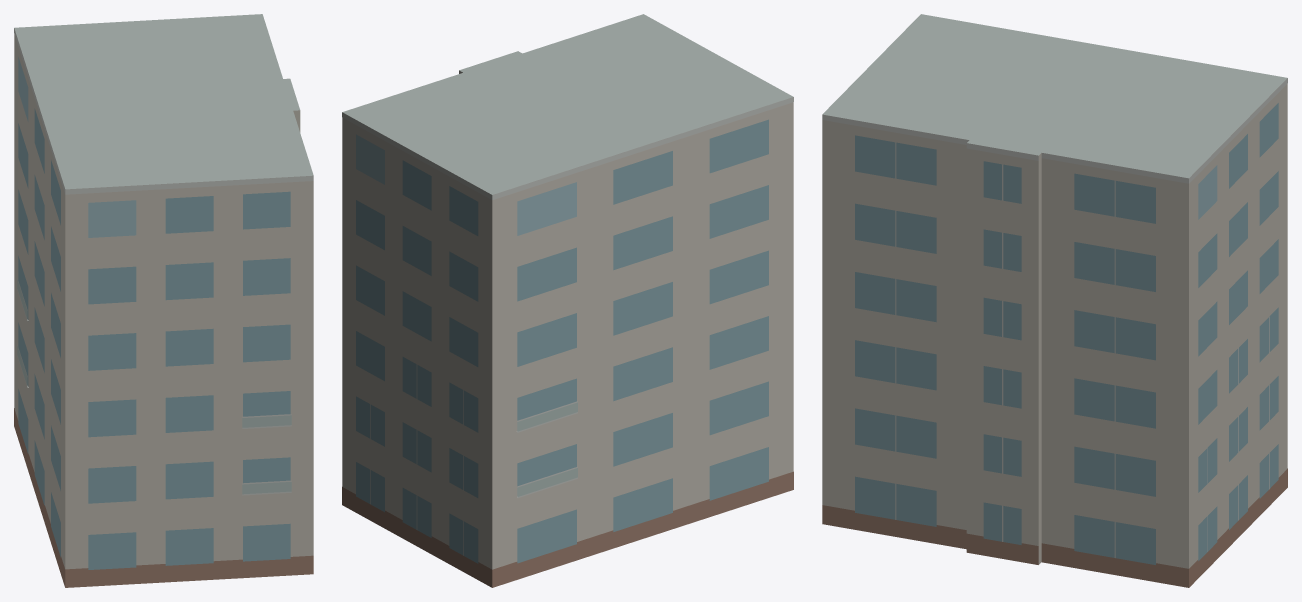
The model's file is survey-upis-33040973.glb.
3 views of the same model, side by side, from view 1: azimuth 30°, elevation 25°; view 2: azimuth 150°, elevation 25°; view 3: azimuth 270°, elevation 25° (orthographic). The views are drawn at different scales.
Visible parts, largest first — view 1: survey-upis-33040973.tmp; view 2: survey-upis-33040973.tmp; view 3: survey-upis-33040973.tmp.
Boxes of the visible parts, <box> form: survey-upis-33040973.tmp: <box>14,14,313,587</box>; survey-upis-33040973.tmp: <box>342,14,793,587</box>; survey-upis-33040973.tmp: <box>822,14,1287,587</box>.
Size of the model in its own units: 15.76 by 18.3 by 18.86.
